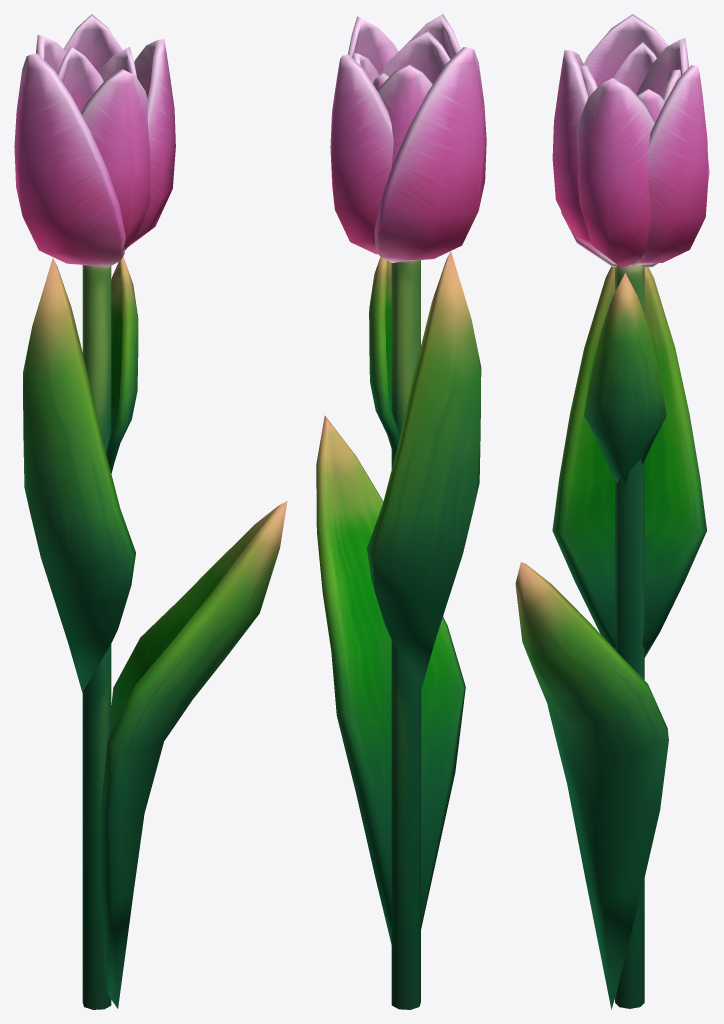
File: huaduo.FBX
3 renders of one model, left to right at view 1: azimuth 30°, elevation 25°; view 2: azimuth 150°, elevation 25°; view 3: azimuth 270°, elevation 25°, orthographic.
Visible parts, largest first — view 1: huaduo; view 2: huaduo; view 3: huaduo.
Boxes of the visible parts, x1,y1,x2,y2 form: huaduo: (14, 14, 287, 1009); huaduo: (316, 14, 486, 1009); huaduo: (515, 14, 709, 1009).
Size of the model in its own units: 73.37 by 320 by 58.65.
